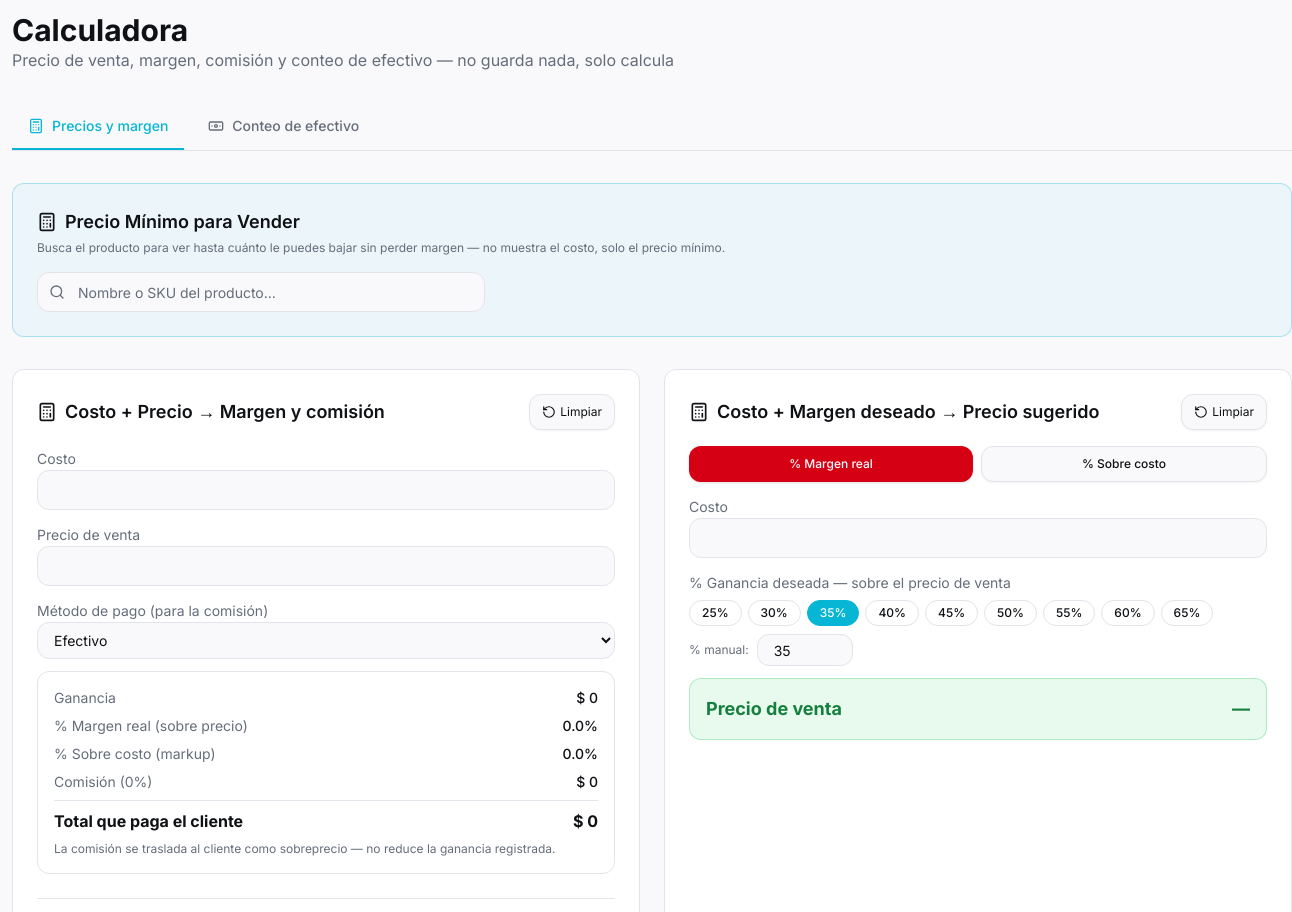
Test: Calculadora — Conteo de efectivo › ignora caracteres no numéricos en las cantidades
Click the tab "Conteo de efectivo" at (284, 127), box [192,104,375,150]
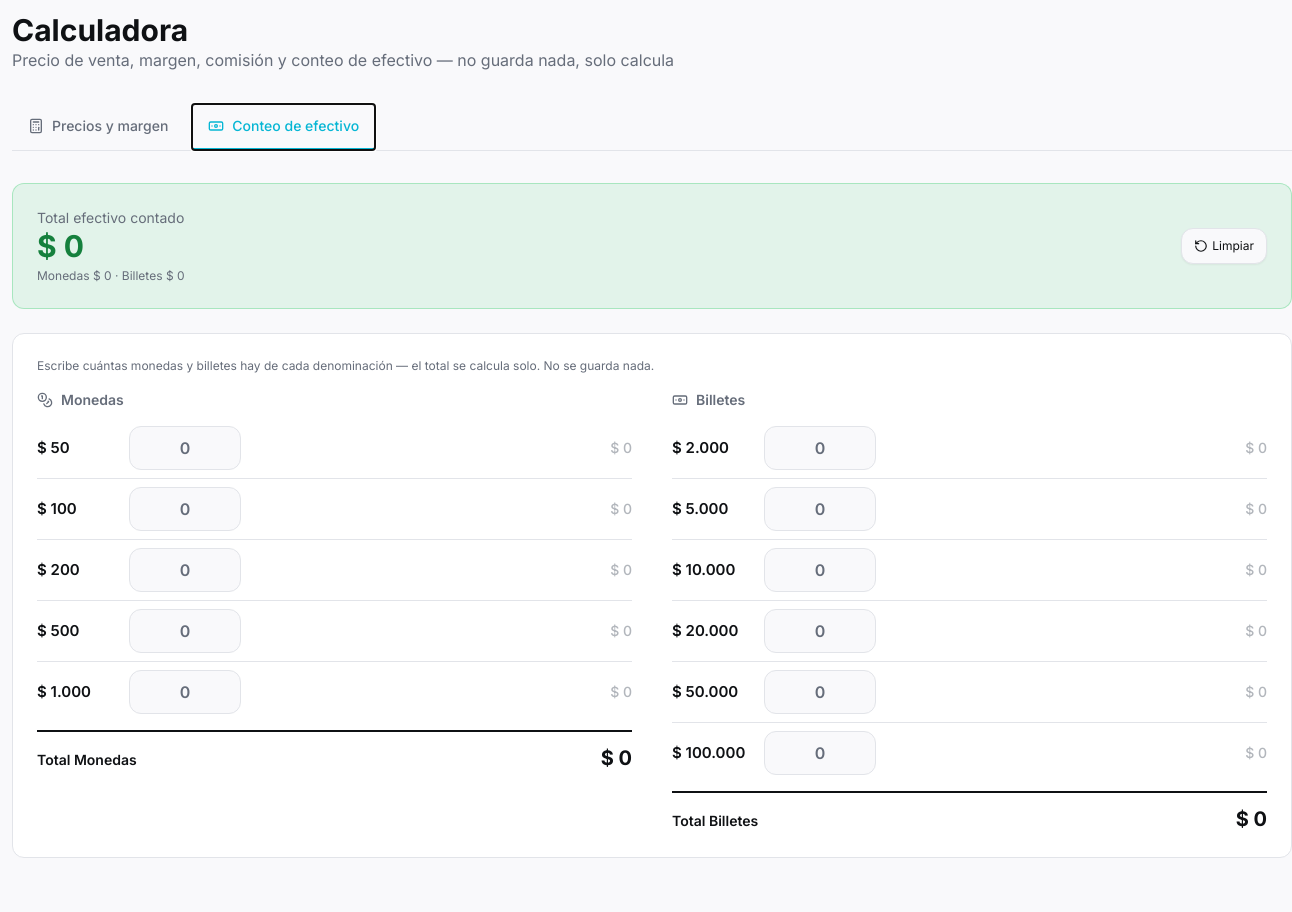
Type "2a-" into the field labelled "$ 100.000" at (820, 753), box [764,731,876,775]
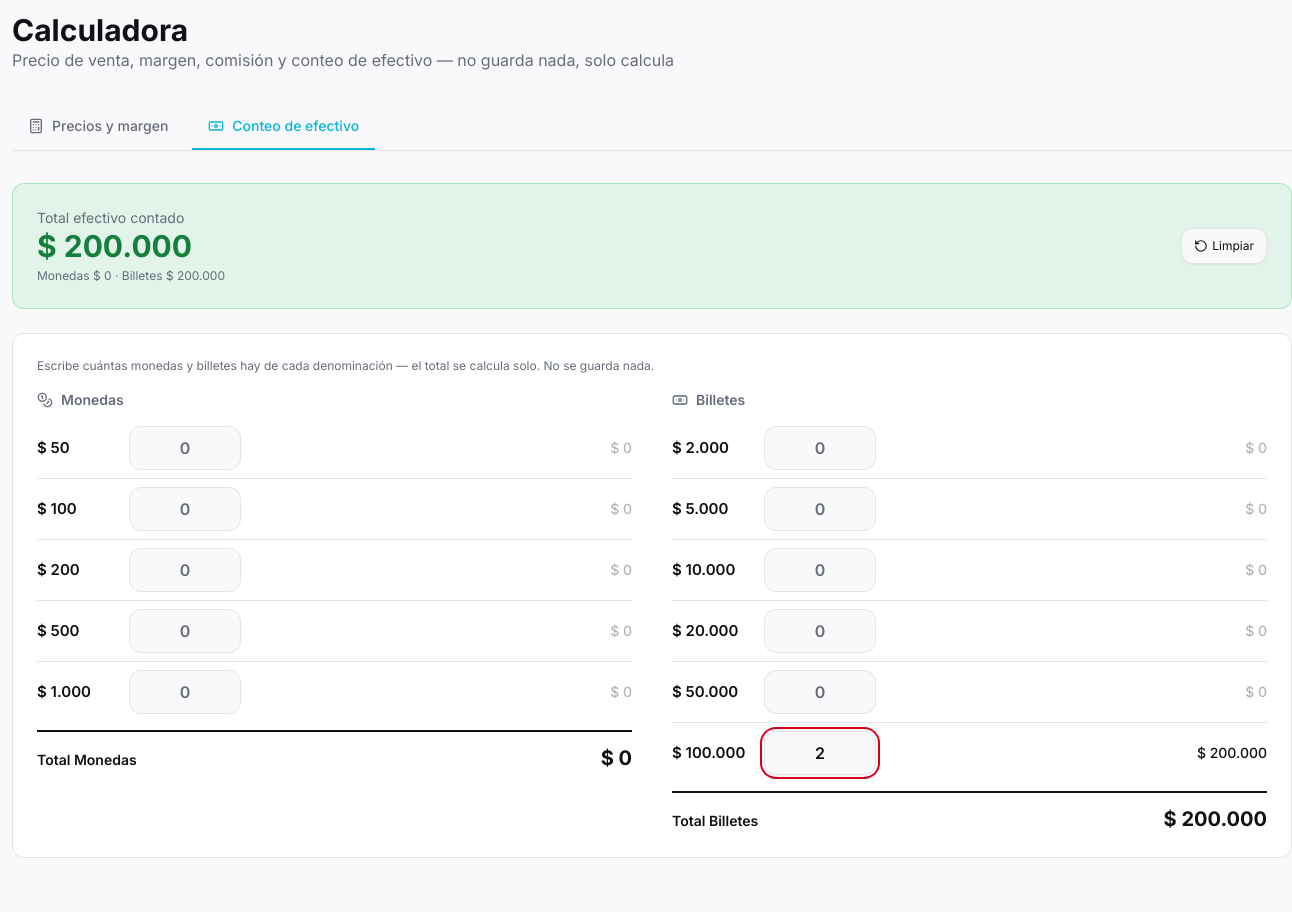
Check: the field labelled "$ 100.000" holds "2", box [764,731,876,775]
Check: the text with test id "total-efectivo" shows "200.000", box [37,228,192,264]
